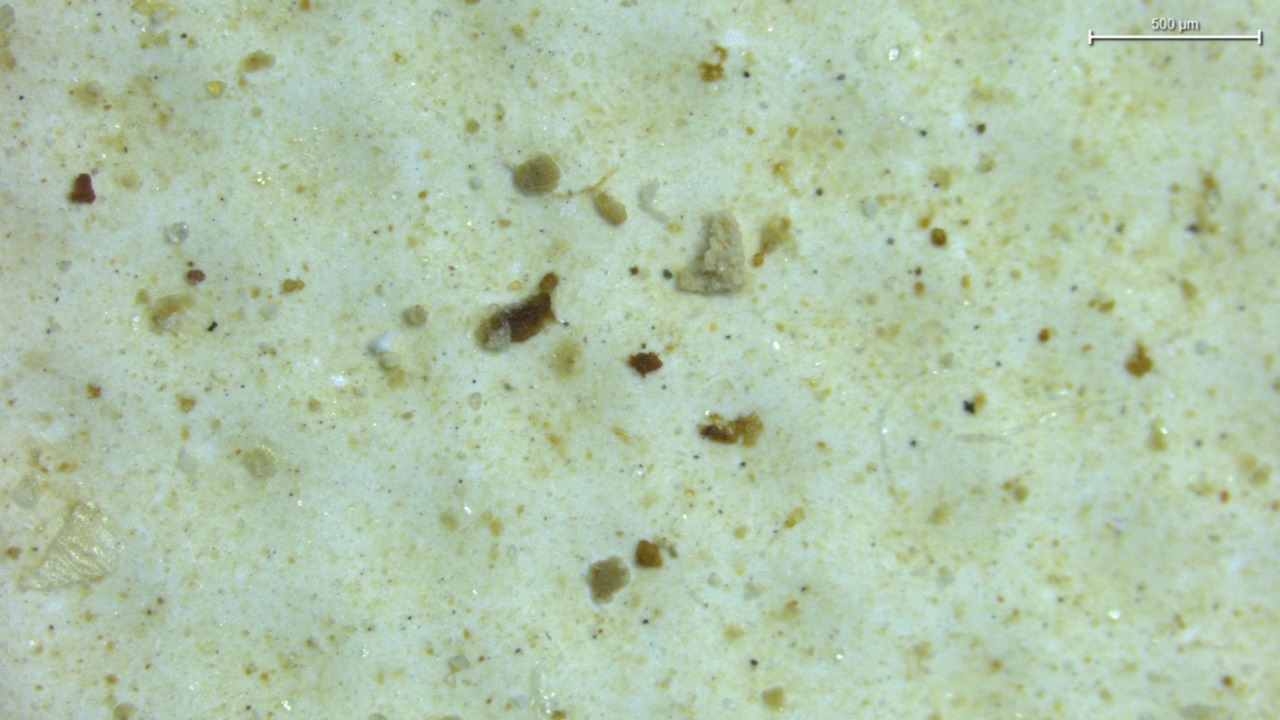microplastic_fragment: (26, 501, 119, 589), (676, 211, 746, 294)
